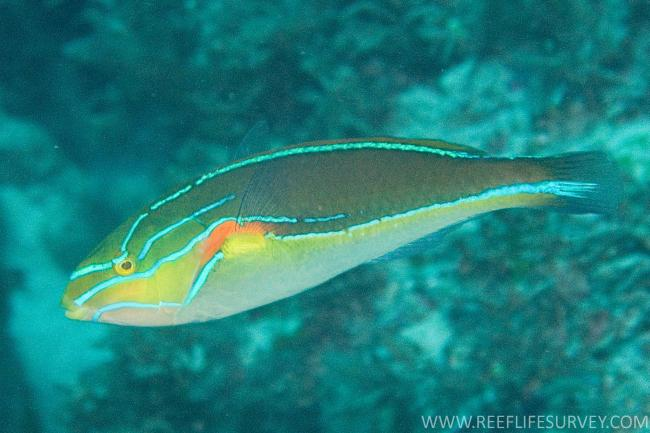fish: (61, 135, 624, 329)
